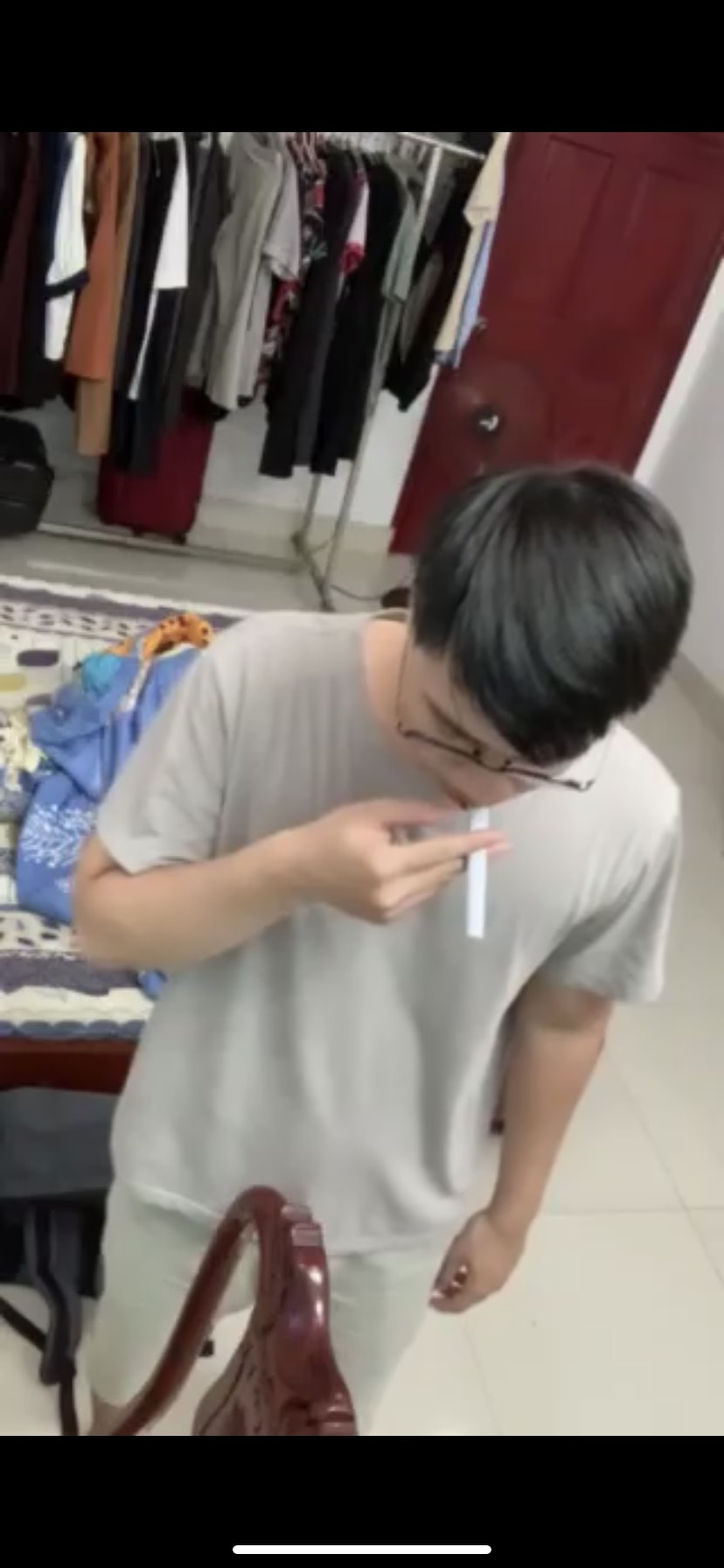cigarette: (461, 800, 498, 943)
person: (67, 441, 707, 1335)
